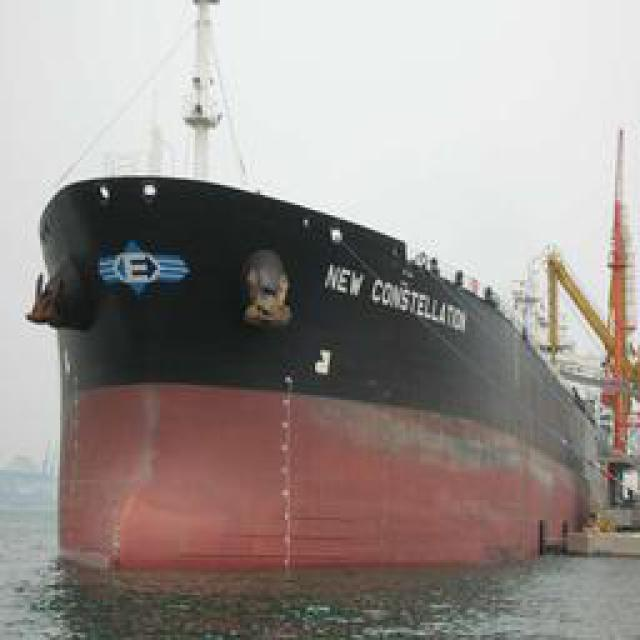Ship: (28, 3, 626, 581)
